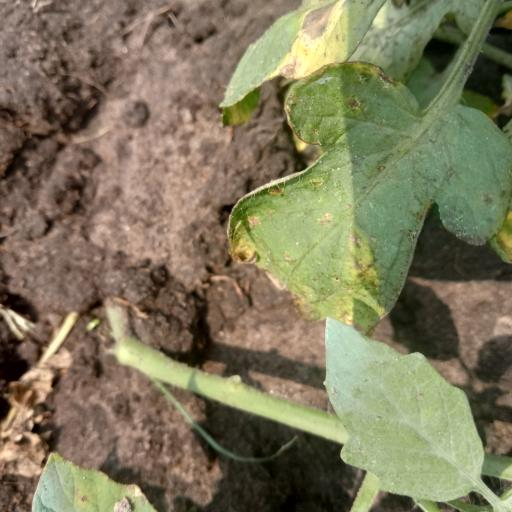Tomato_Brown_Spots: (220, 58, 512, 342), (321, 314, 488, 504), (220, 0, 467, 109)
